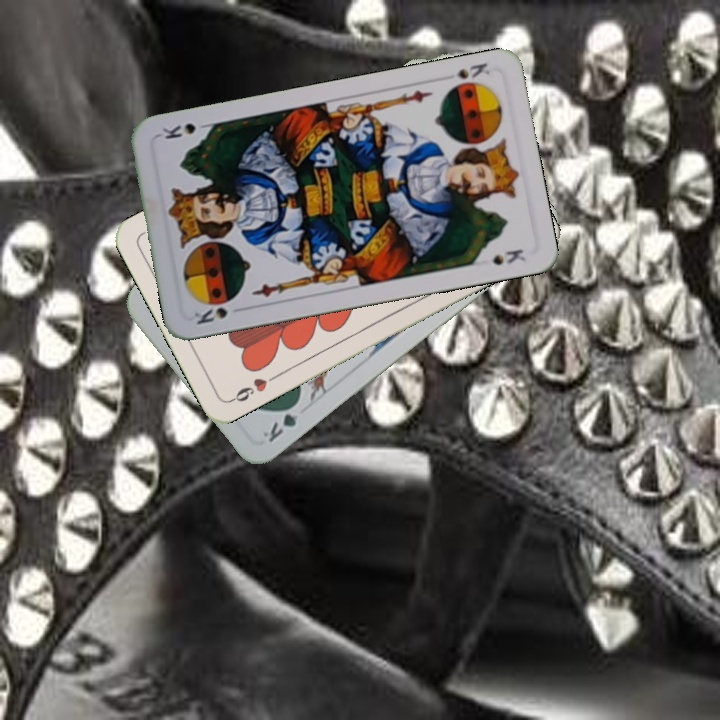GK: (258, 397, 304, 446)
H9: (226, 370, 280, 405)
SK: (190, 303, 230, 327), (453, 58, 492, 82)
